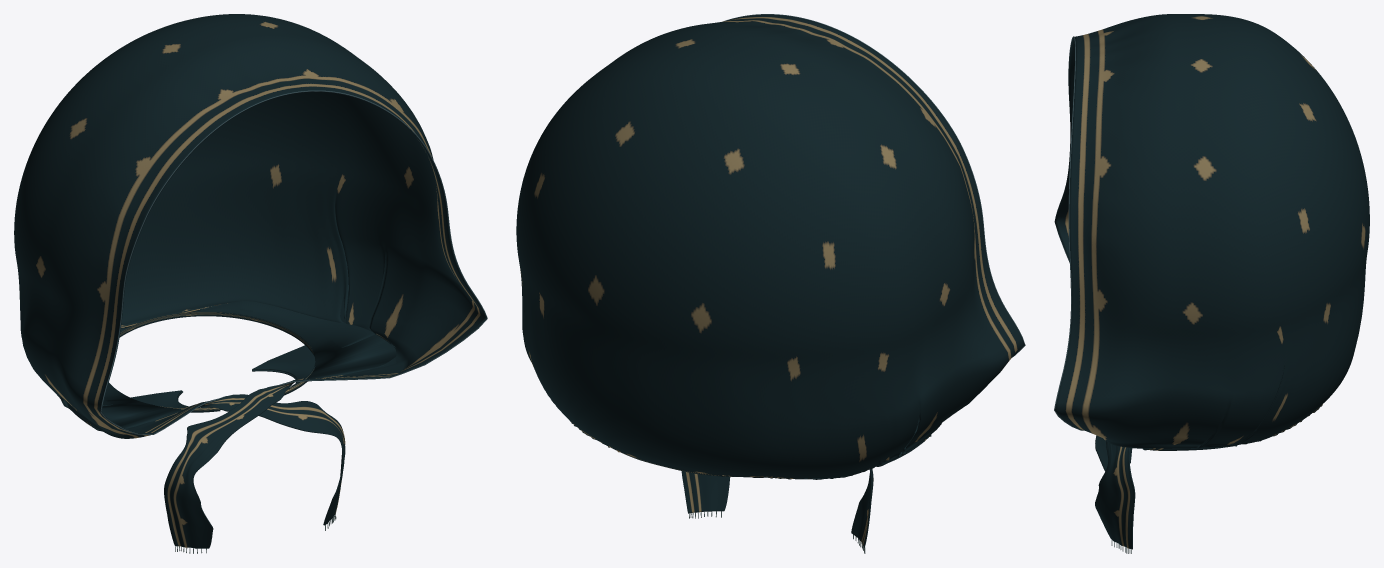
Rendered from Feminine-box-braids-bandeau-pashmina250-headgear.glb.
3 renders of one model, left to right at view 1: azimuth 30°, elevation 25°; view 2: azimuth 150°, elevation 25°; view 3: azimuth 270°, elevation 25°, orthographic. The views are drawn at different scales.
Visible parts, largest first — view 1: 226 headgear / Headwear / continuous woven pashmina239, 226 headgear / Headwear / face edge239; view 2: 226 headgear / Headwear / continuous woven pashmina239, 226 headgear / Headwear / face edge239; view 3: 226 headgear / Headwear / continuous woven pashmina239, 226 headgear / Headwear / face edge239.
Part boxes in pixels (box(x1,y1,x2,y2)): 226 headgear / Headwear / continuous woven pashmina239: box(14, 14, 486, 548); 226 headgear / Headwear / face edge239: box(100, 90, 487, 434); 226 headgear / Headwear / continuous woven pashmina239: box(516, 14, 1024, 547); 226 headgear / Headwear / face edge239: box(723, 14, 1025, 357); 226 headgear / Headwear / continuous woven pashmina239: box(1054, 14, 1369, 549); 226 headgear / Headwear / face edge239: box(1054, 36, 1083, 430).
Size of the model in its own units: 1.2 by 1.4 by 0.8348.
Materials: 3 (1 with a texture image).
